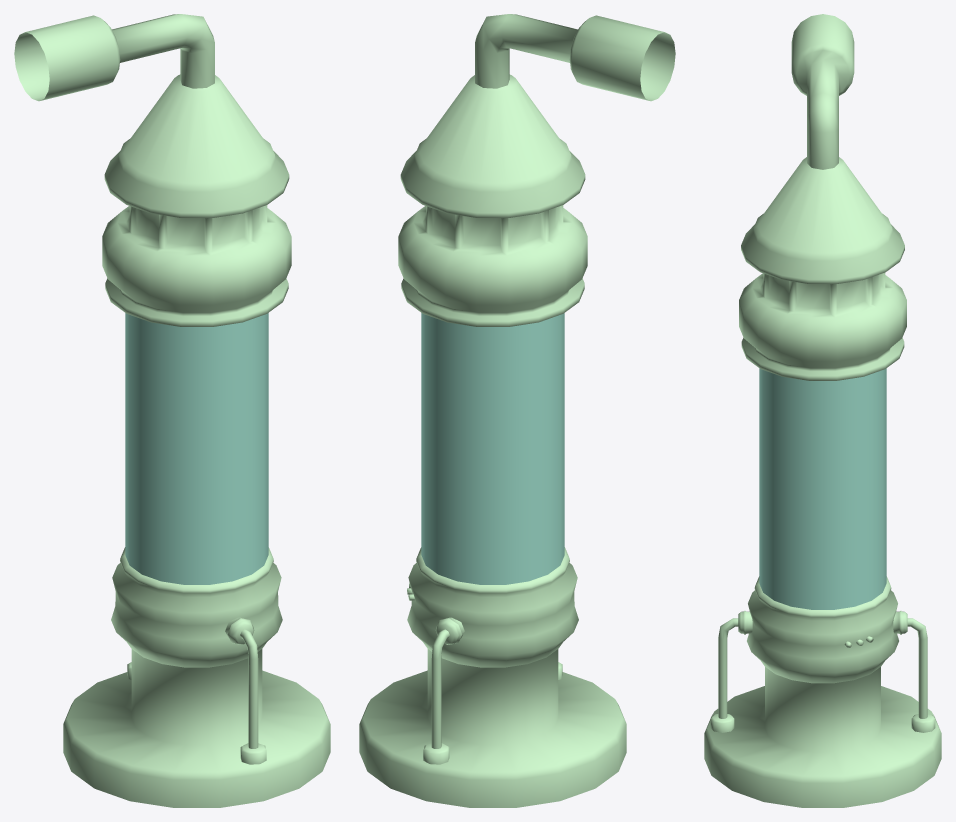
Rendered from tubebubble1.fbx.
3 views of the same model, side by side, from view 1: azimuth 30°, elevation 25°; view 2: azimuth 150°, elevation 25°; view 3: azimuth 270°, elevation 25° (orthographic). The views are drawn at different scales.
Parts seen in each view (by area): view 1: bubble_tubes; view 2: bubble_tubes; view 3: bubble_tubes.
Part boxes in pixels (x1,y1,x2,y2): bubble_tubes: (14,14,330,807); bubble_tubes: (359,14,675,807); bubble_tubes: (704,14,941,807).
Bounding box in the file's own units: 187 × 485 × 155.
